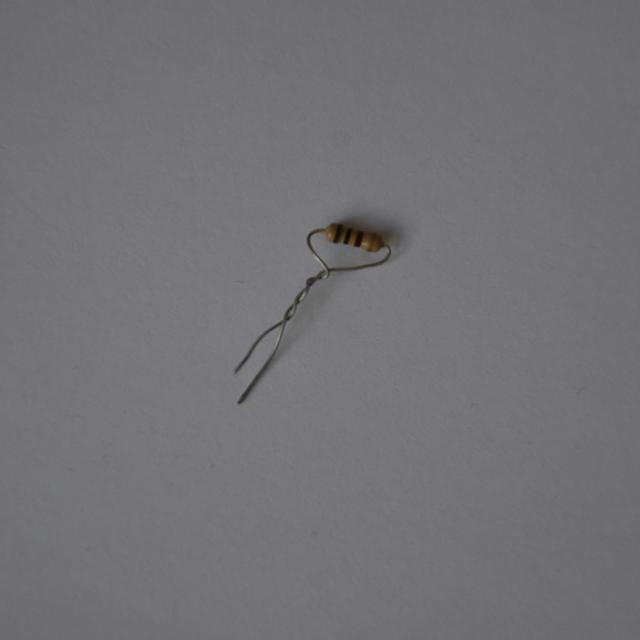capacitor: (321, 221, 390, 258)
